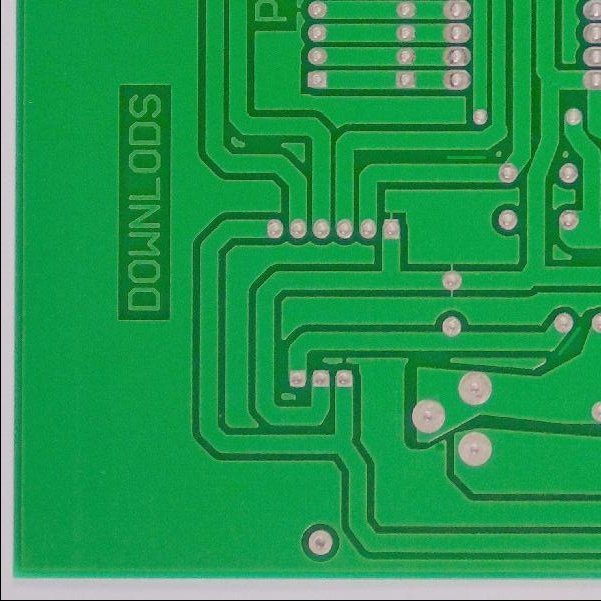spurious_copper: (554, 323, 582, 359), (444, 151, 488, 166)
